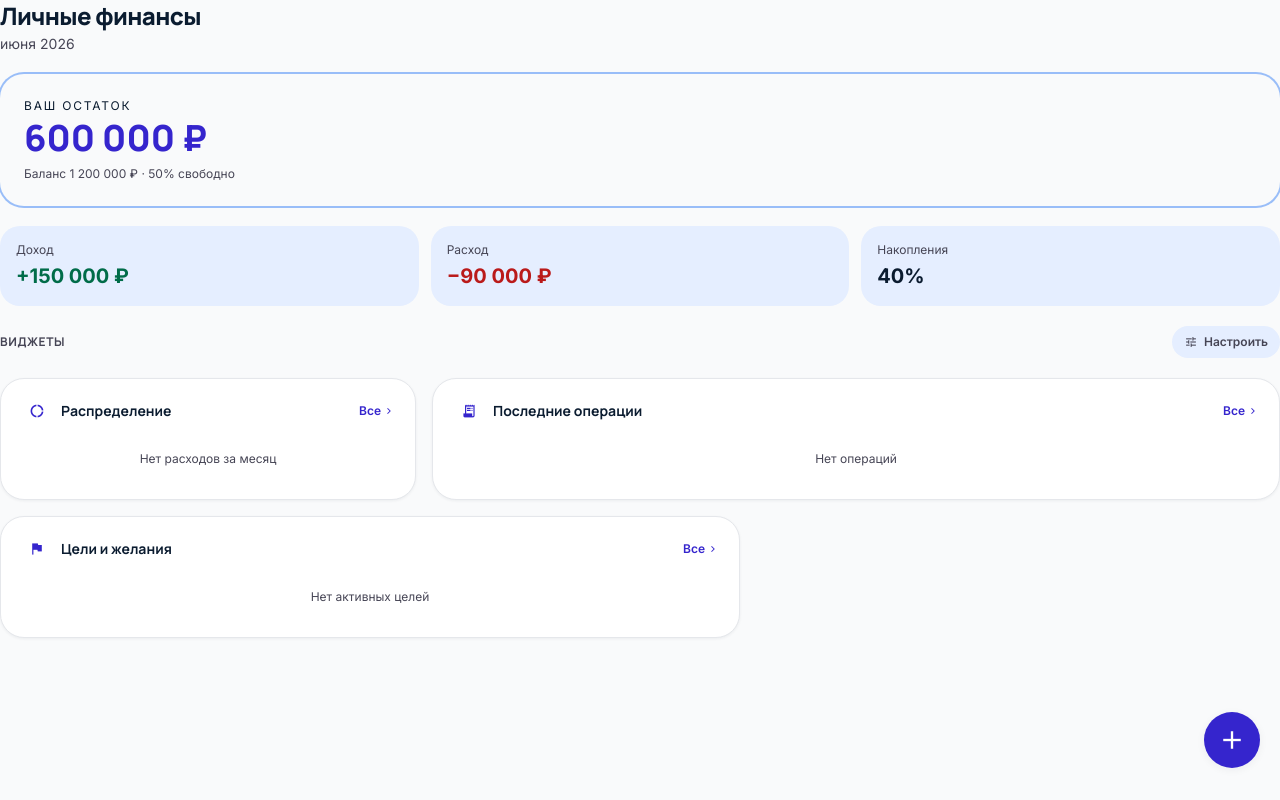
Test: DashboardWithWidgets › opens the quick-add form when the FAB is clicked (T1.2)
Expected: the heading "Личные финансы" is shown, [0,0,201,32]
What coordinates should you click on to do the following:
click the button named "Быстро добавить операцию"
I would click on:
 (1232, 740)
Its box is [1204,712,1260,768].
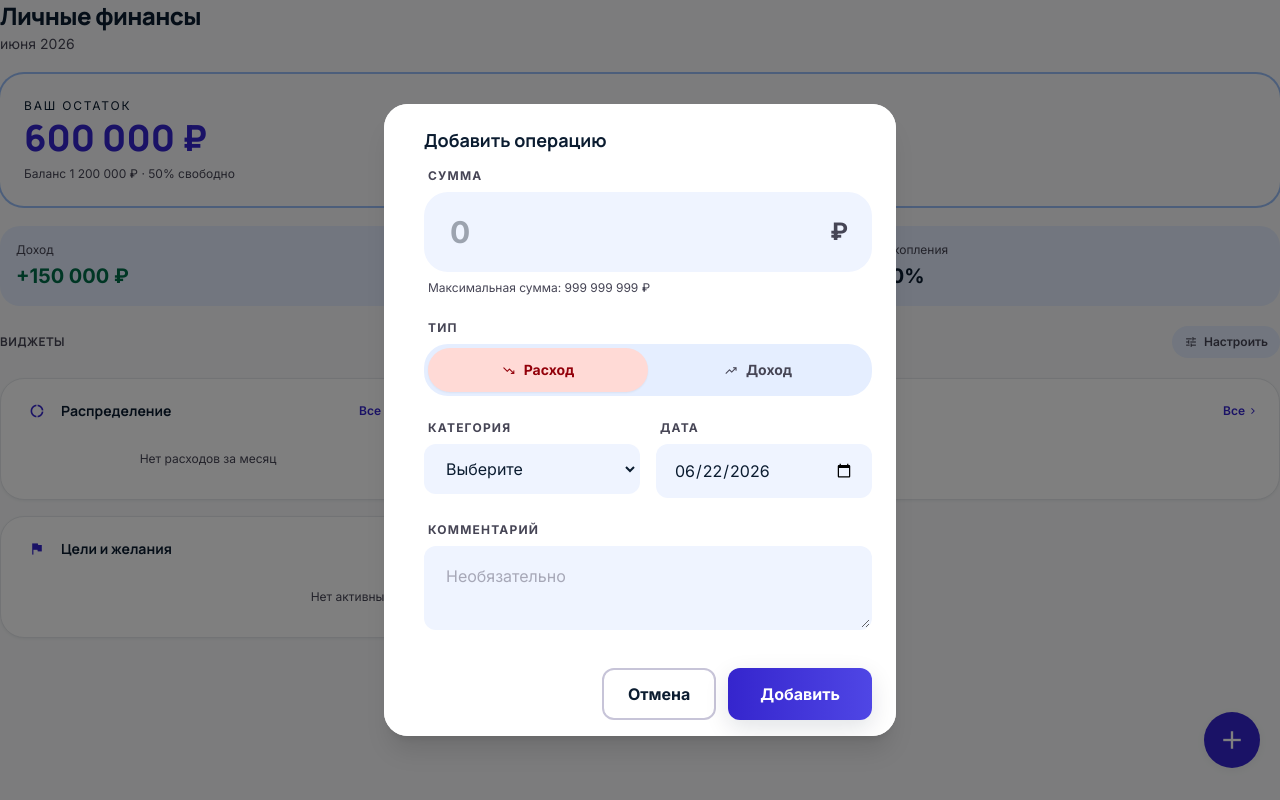
Result: the heading "Добавить операцию" is shown at [424,128,607,152]
